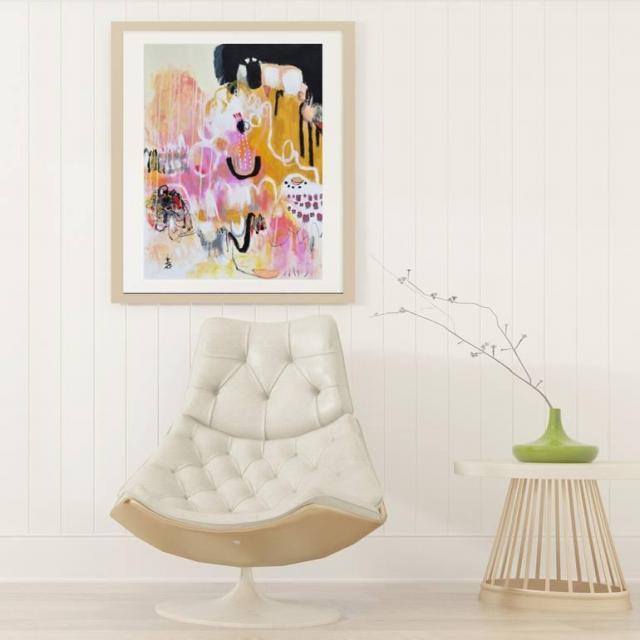painting: (124, 29, 343, 292)
